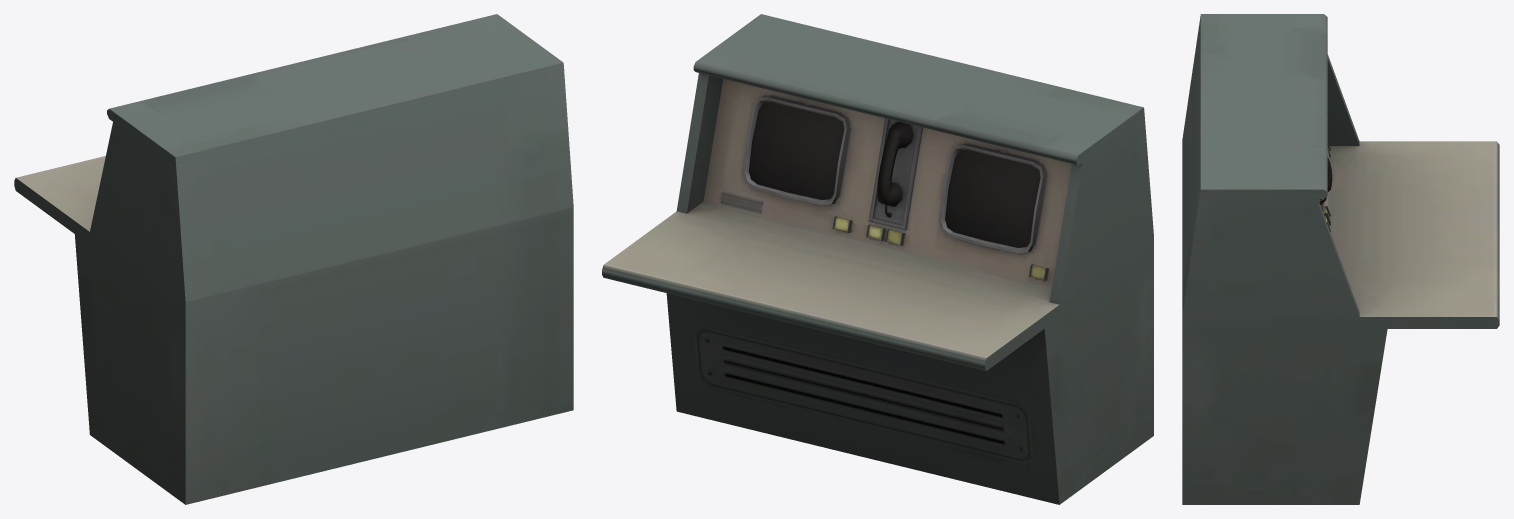
3 views of the same model, side by side, from view 1: azimuth 30°, elevation 25°; view 2: azimuth 150°, elevation 25°; view 3: azimuth 270°, elevation 25° (orthographic). The views are drawn at different scales.
Visible parts, largest first — view 1: body0_model0_lod0_mesh0; view 2: body0_model0_lod0_mesh0; view 3: body0_model0_lod0_mesh0.
Part boxes in pixels (box(x1,y1,x2,y2)): body0_model0_lod0_mesh0: box(14, 14, 573, 504); body0_model0_lod0_mesh0: box(602, 14, 1153, 504); body0_model0_lod0_mesh0: box(1182, 14, 1499, 504).
Size of the model in its own units: 80 by 67.01 by 61.16.
1 material, 1 textured.
